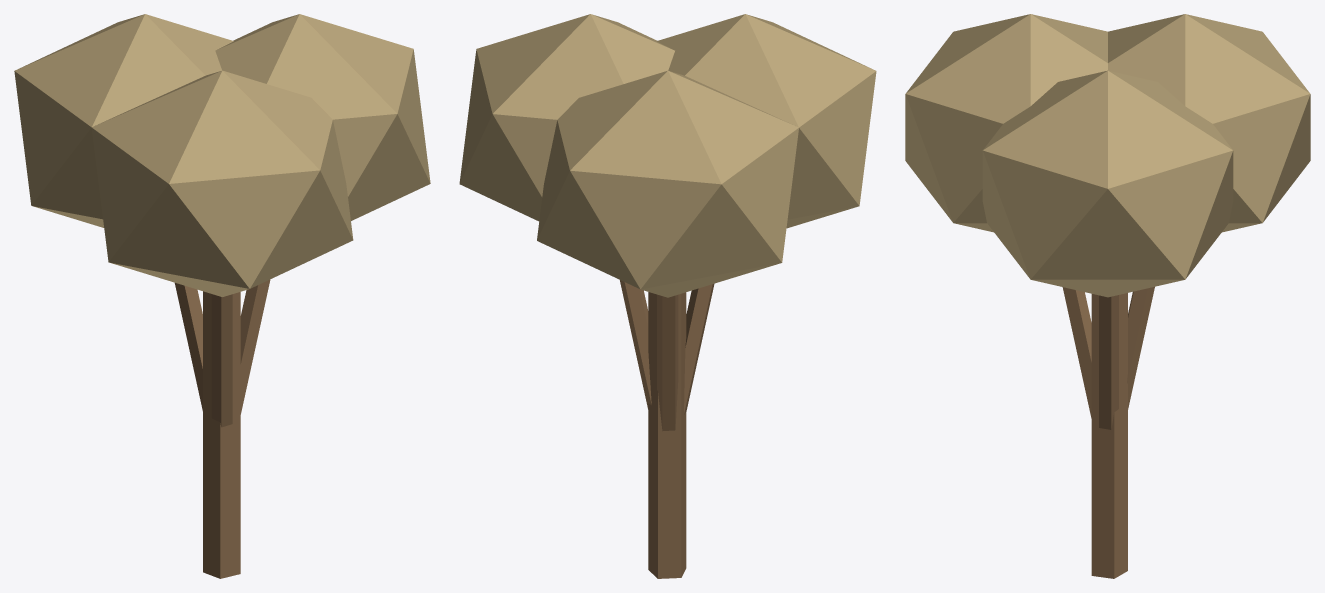
File: plant_wild_apple_spent.glb
The picture shows the model from 3 angles, left to right: view 1: azimuth 30°, elevation 25°; view 2: azimuth 150°, elevation 25°; view 3: azimuth 270°, elevation 25°; orthographic projection.
Visible parts, largest first — view 1: plant_wild_apple_spent; view 2: plant_wild_apple_spent; view 3: plant_wild_apple_spent.
Part boxes in pixels (x1=…): plant_wild_apple_spent: x1=14, y1=14, x2=430, y2=578; plant_wild_apple_spent: x1=459, y1=14, x2=876, y2=578; plant_wild_apple_spent: x1=905, y1=14, x2=1310, y2=578.
Bounding box in the file's own units: 0.8903 × 1.33 × 0.9078.
